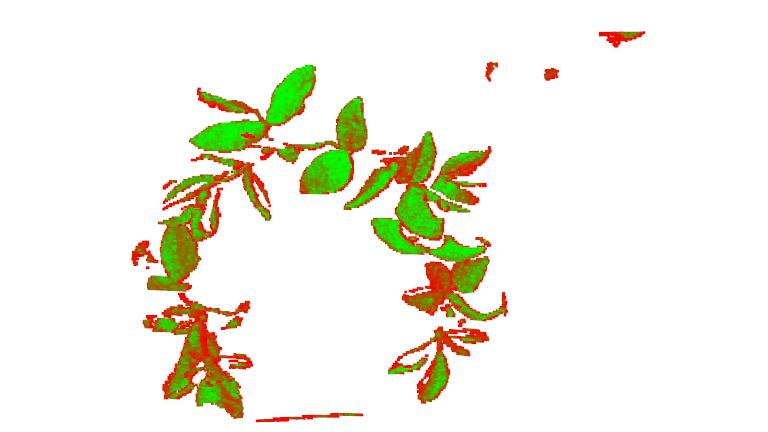mungbean: (291, 94, 495, 237), (371, 217, 511, 405), (169, 63, 319, 238), (143, 224, 254, 419)
